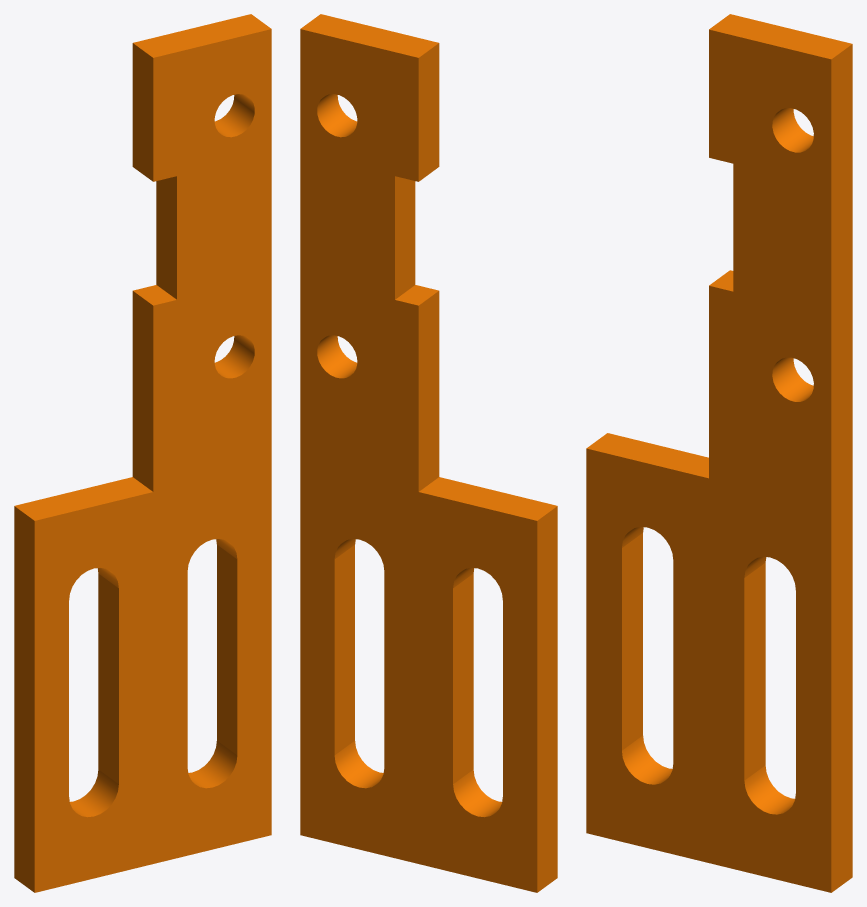
The model's file is z-endstop.obj.
3 views of the same model, side by side, from view 1: azimuth 30°, elevation 25°; view 2: azimuth 150°, elevation 25°; view 3: azimuth 330°, elevation 25° (orthographic). The views are drawn at different scales.
Visible parts, largest first — view 1: Mesh1 Model; view 2: Mesh1 Model; view 3: Mesh1 Model.
Part boxes in pixels (x1,y1,x2,y2): Mesh1 Model: (14,14,271,892); Mesh1 Model: (300,14,557,892); Mesh1 Model: (586,14,852,892).
Bounding box in the file's own units: 20 × 65 × 3.
